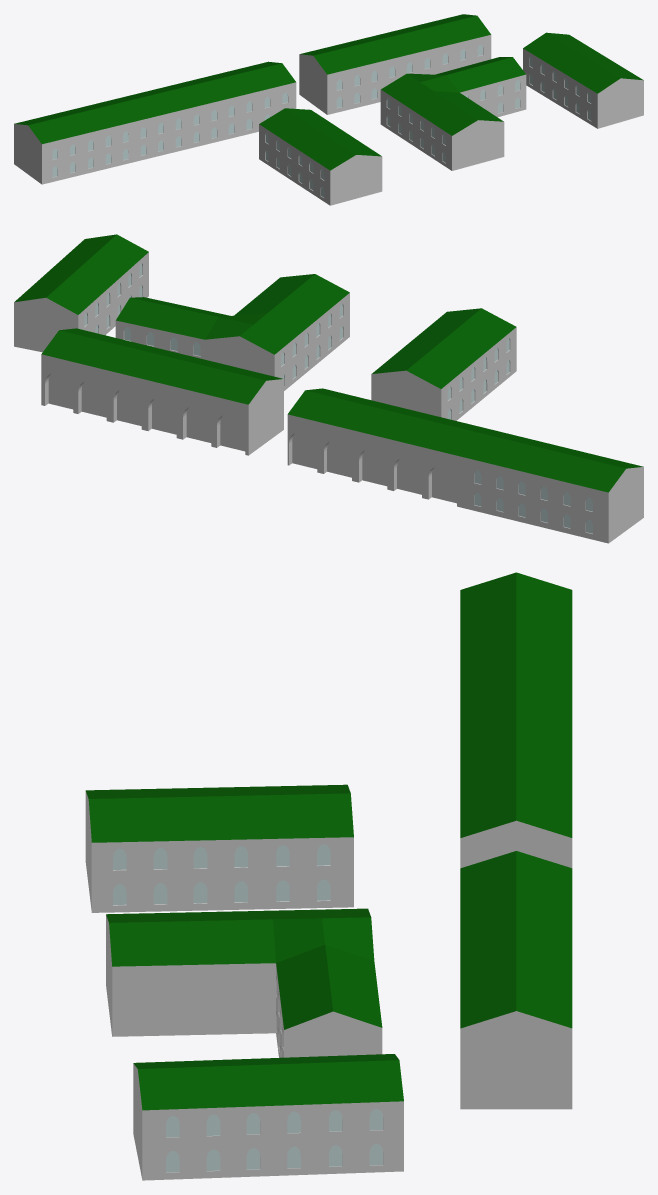
Rendered from twelve.gltf.
3 renders of one model, top to bottom at view 1: azimuth 30°, elevation 25°; view 2: azimuth 150°, elevation 25°; view 3: azimuth 270°, elevation 25°, orthographic. The views are drawn at different scales.
Visible parts, largest first — view 1: Cube.006; view 2: Cube.006; view 3: Cube.006.
Part boxes in pixels (x1=…): Cube.006: x1=14, y1=14, x2=643, y2=205; Cube.006: x1=14, y1=234, x2=643, y2=543; Cube.006: x1=85, y1=572, x2=572, y2=1180.
Size of the model in its own units: 5.42 by 0.487 by 2.19.
